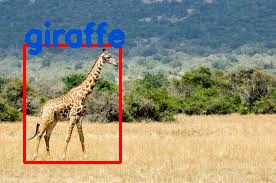giraffe: (24, 45, 120, 162)
